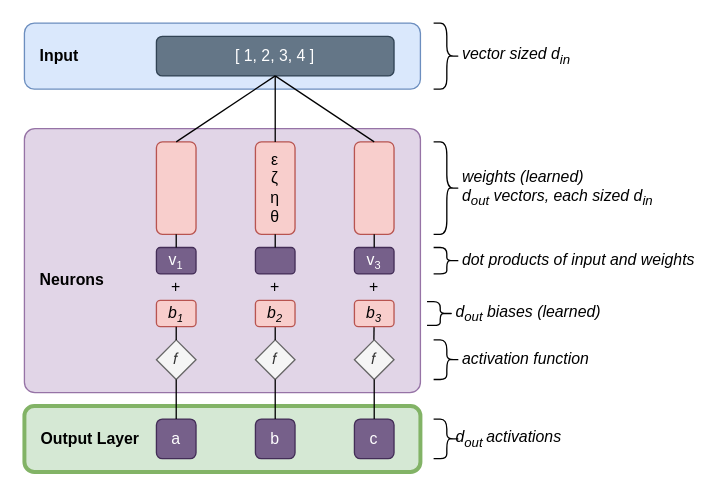
Image size: 721x496. Some labels were removed from this diagram. Each missing label, with the centre of its shape:
"v 2" belongs at (274,260).
"α β γ δ" belongs at (175,187).
"ι κ λ μ" belongs at (373,187).
